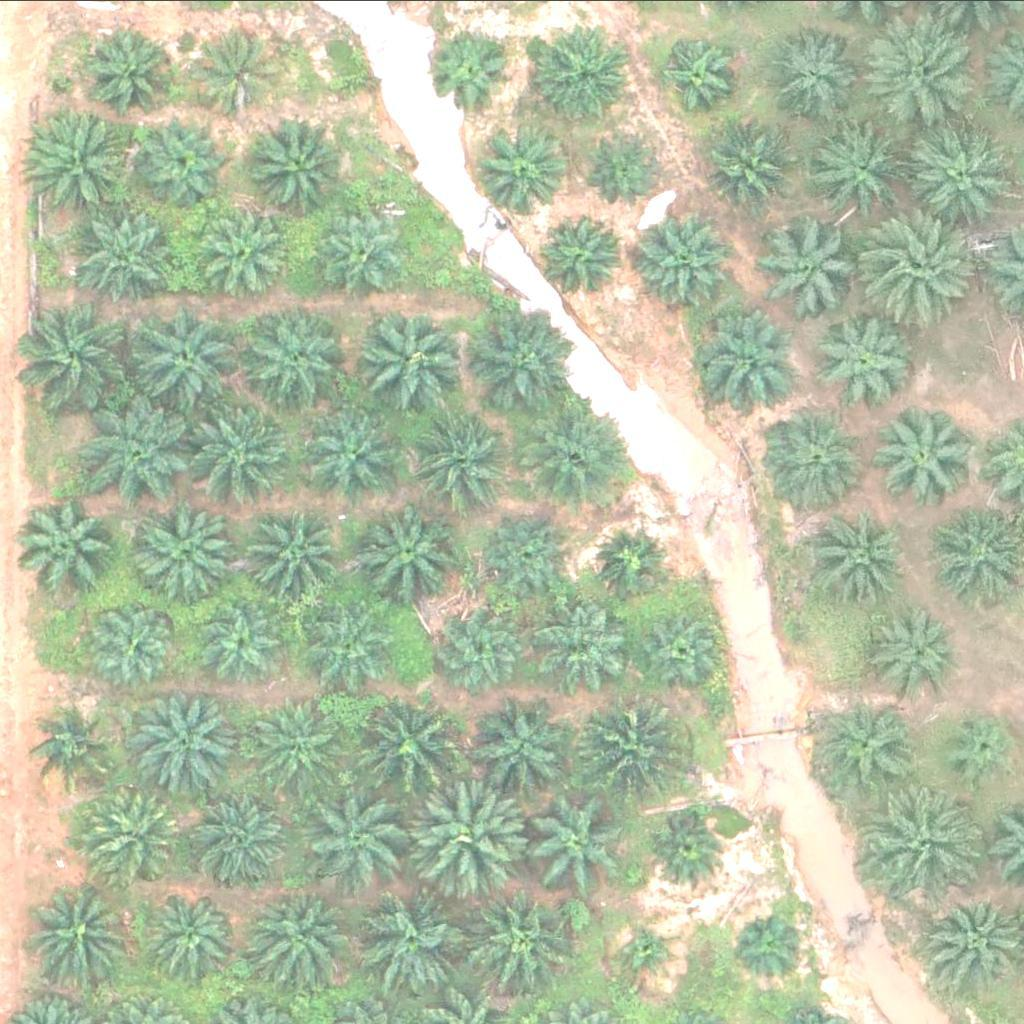Kelapa_Sawit: (245, 878, 359, 991), (235, 302, 349, 415), (22, 106, 136, 219), (862, 18, 976, 131), (870, 786, 984, 899), (411, 772, 524, 885), (346, 498, 459, 611), (82, 396, 195, 509), (526, 399, 639, 512), (130, 298, 243, 411), (347, 310, 460, 423), (305, 774, 419, 886), (355, 880, 468, 992), (457, 881, 570, 993), (520, 778, 633, 890), (126, 685, 239, 797), (351, 685, 464, 797), (572, 687, 685, 799), (129, 497, 242, 609), (186, 394, 299, 506), (407, 406, 520, 518), (18, 300, 131, 412), (470, 307, 583, 419), (861, 209, 974, 321), (32, 889, 133, 989), (77, 782, 178, 882), (240, 690, 341, 790), (474, 697, 575, 797), (818, 694, 919, 794), (541, 599, 642, 699), (20, 499, 121, 599), (241, 506, 342, 606), (71, 201, 172, 301), (540, 27, 641, 127), (757, 214, 858, 314), (696, 316, 797, 416), (761, 408, 862, 508), (810, 508, 911, 608), (911, 126, 1012, 226), (871, 403, 972, 503), (191, 781, 291, 881), (299, 407, 399, 507), (242, 119, 342, 219), (643, 211, 743, 311), (812, 312, 912, 412), (763, 23, 863, 123), (818, 116, 918, 216), (195, 30, 283, 118), (586, 515, 674, 603), (194, 603, 282, 691), (197, 209, 285, 297), (317, 206, 405, 294), (136, 116, 224, 204), (84, 26, 172, 114), (873, 605, 961, 693), (154, 887, 242, 974), (26, 696, 114, 783), (85, 606, 173, 693), (312, 601, 400, 688), (437, 605, 525, 692), (641, 603, 729, 690), (482, 510, 570, 597), (428, 23, 516, 110), (708, 124, 796, 211), (477, 129, 565, 216), (540, 211, 628, 298), (649, 813, 725, 888), (943, 710, 1019, 785), (662, 38, 738, 113), (732, 907, 807, 982), (593, 128, 668, 203), (621, 918, 684, 981)
